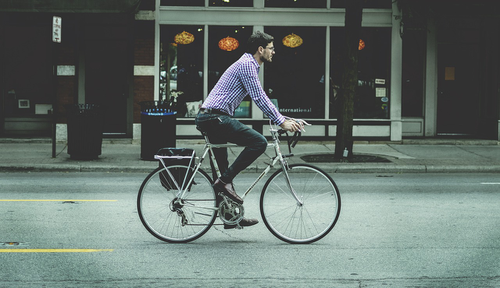bikerider: (125, 28, 352, 248)
